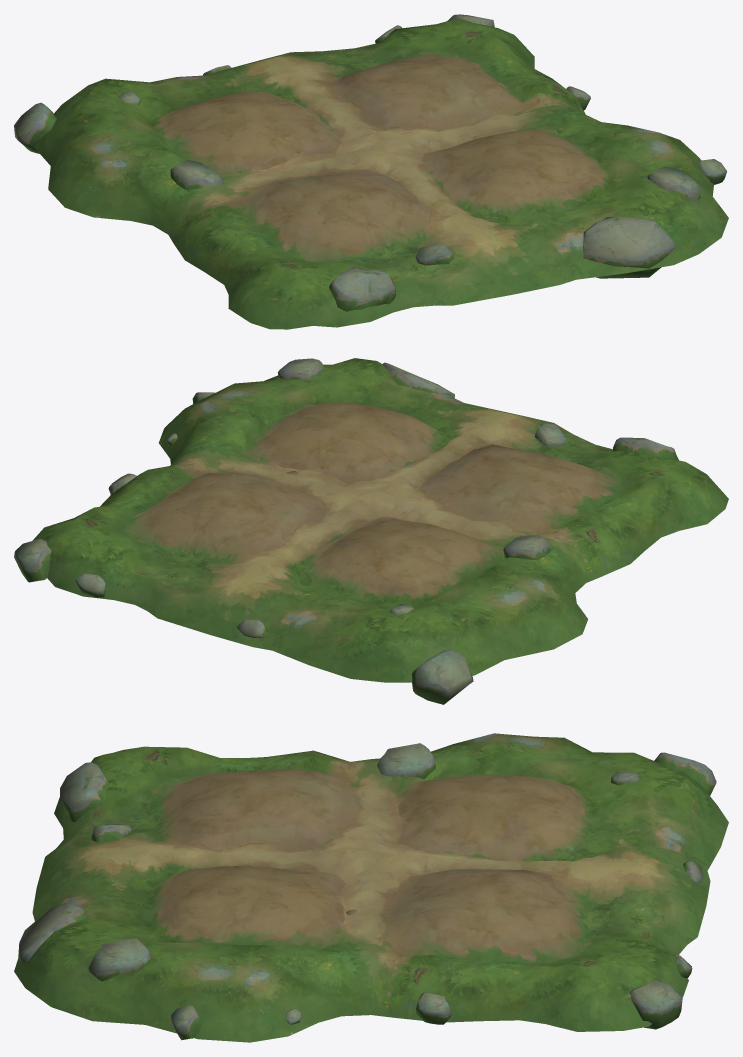
The model's file is Homeworld_Exterior_Common_Thing_Field_01_Lod0.fbx.
The picture shows the model from 3 angles, top to bottom: view 1: azimuth 30°, elevation 25°; view 2: azimuth 150°, elevation 25°; view 3: azimuth 270°, elevation 25°; orthographic projection. The views are drawn at different scales.
Parts seen in each view (by area): view 1: Homeworld_Exterior_Common_Thing_Field_01_Lod0; view 2: Homeworld_Exterior_Common_Thing_Field_01_Lod0; view 3: Homeworld_Exterior_Common_Thing_Field_01_Lod0.
Part boxes in pixels (bbox=[...]): Homeworld_Exterior_Common_Thing_Field_01_Lod0: bbox=[14, 14, 728, 329]; Homeworld_Exterior_Common_Thing_Field_01_Lod0: bbox=[14, 358, 728, 704]; Homeworld_Exterior_Common_Thing_Field_01_Lod0: bbox=[14, 733, 728, 1042].
Size of the model in its own units: 4.42 by 0.5677 by 4.59.
